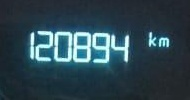0: (53, 29, 72, 64)
1: (28, 28, 34, 61)
2: (34, 28, 52, 62)
4: (110, 32, 131, 63)
8: (73, 29, 91, 63)
9: (91, 30, 110, 63)
X: (146, 28, 156, 48), (158, 34, 170, 49)
